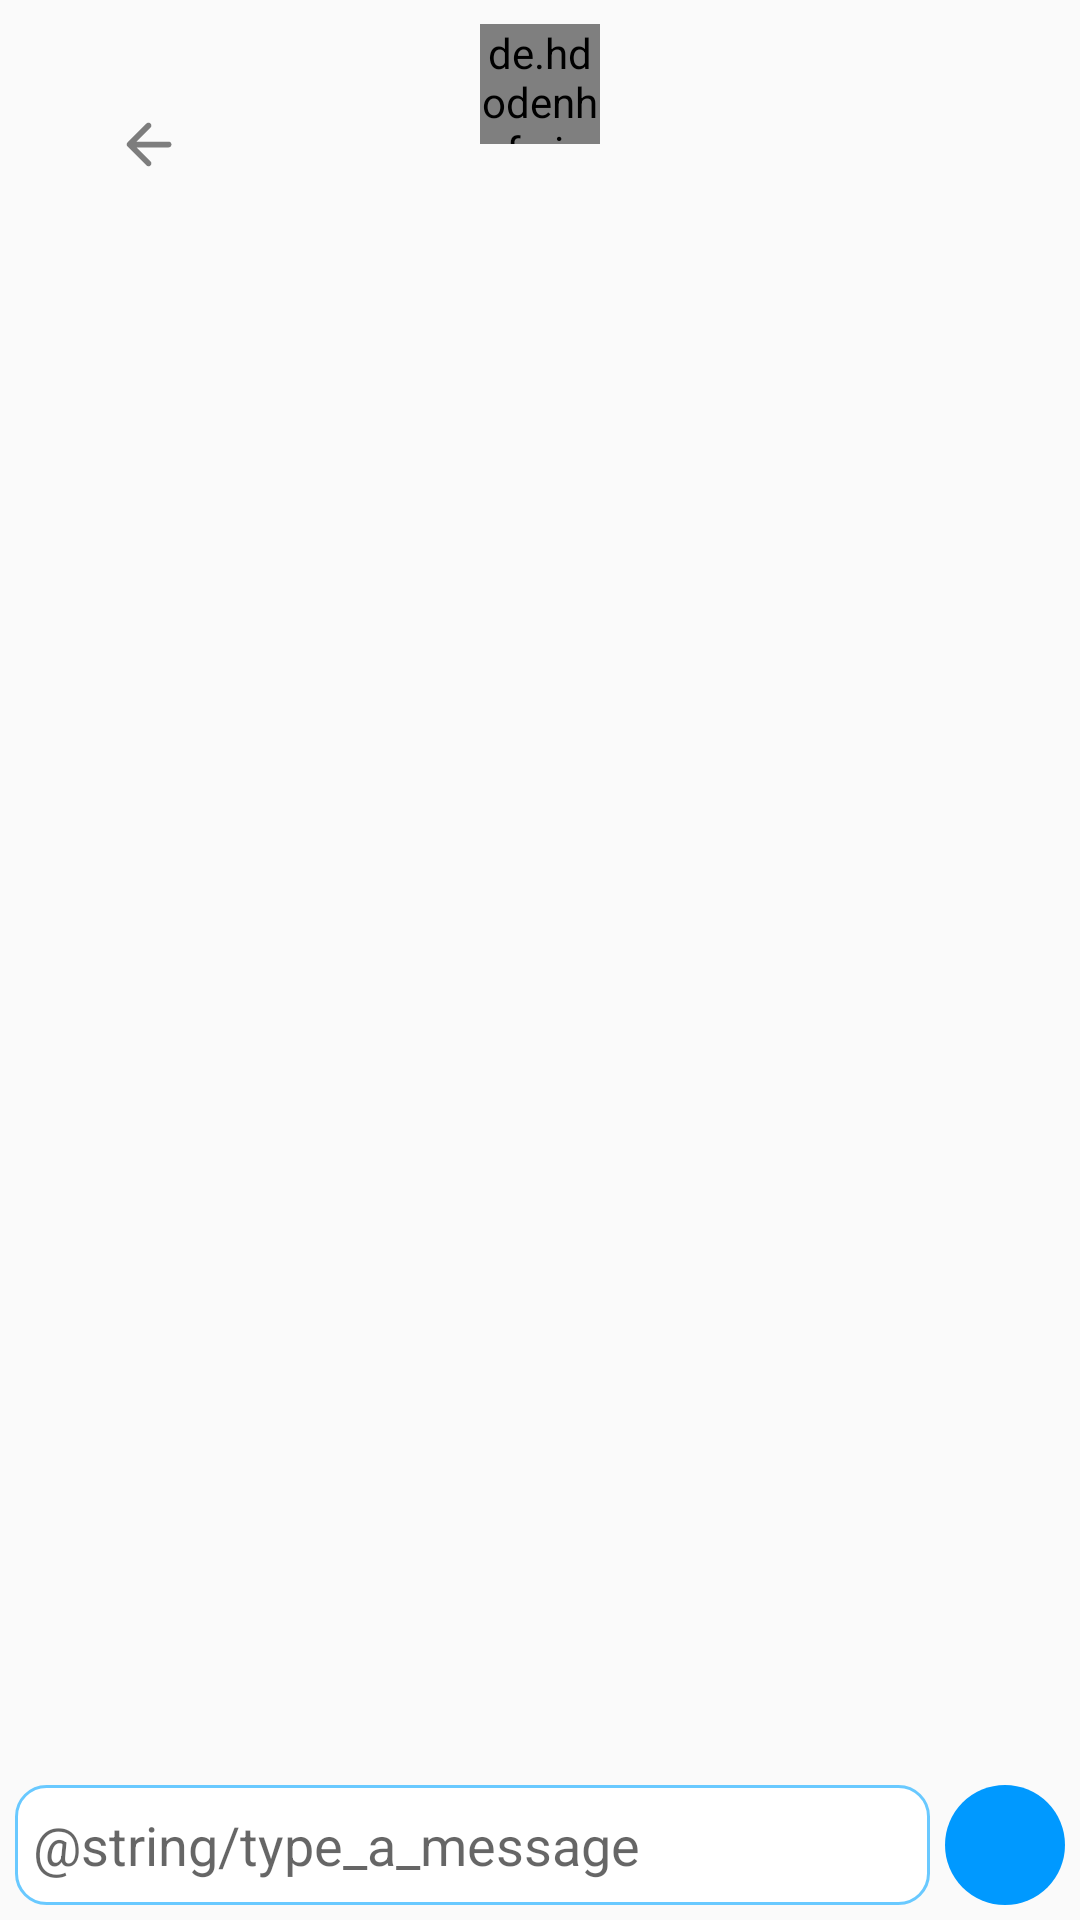

Where icons sit on this 1080w x 1920h app screen, as (x1, y1, x2, y2):
arrow back chat: (126, 122, 172, 167)
